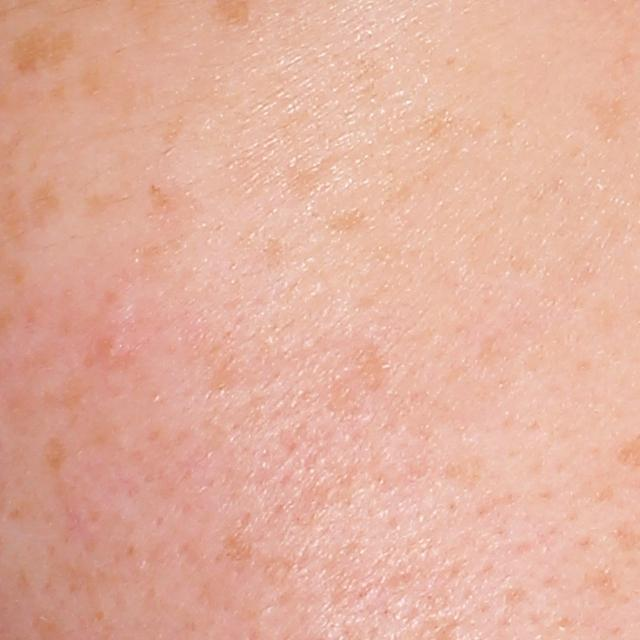melasma: (13, 29, 80, 73), (139, 181, 184, 226)
